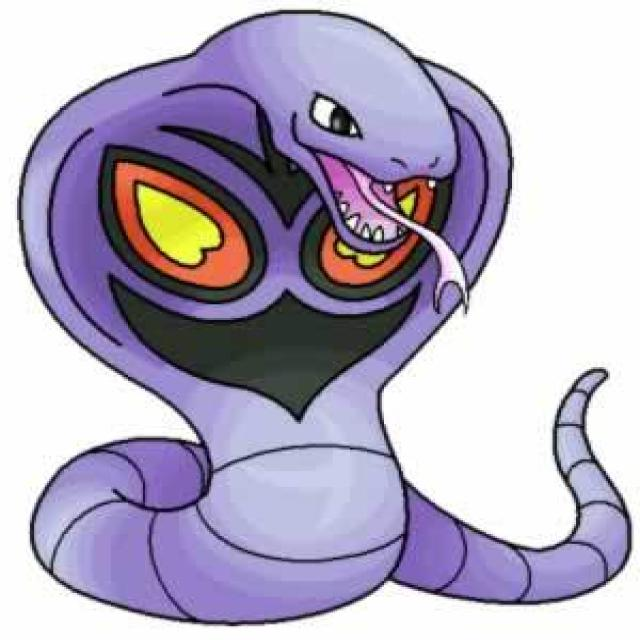Arbok: (21, 17, 599, 616)
